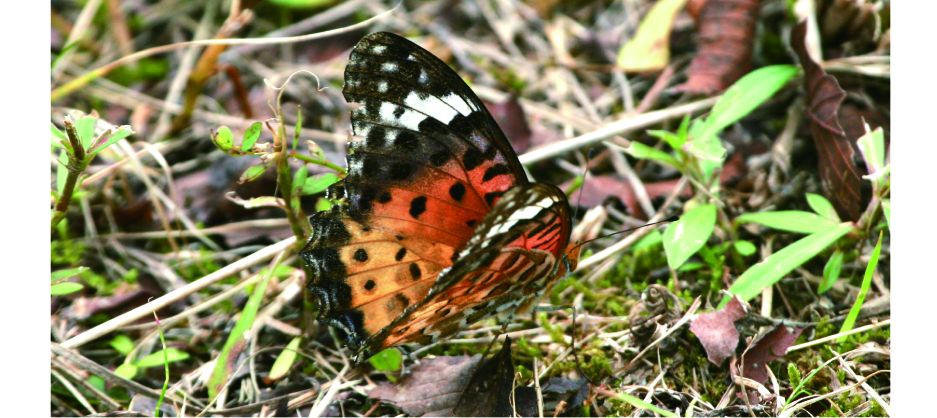Argyreus hyperbius: (302, 29, 680, 399)
butterfly: (304, 31, 682, 401)
